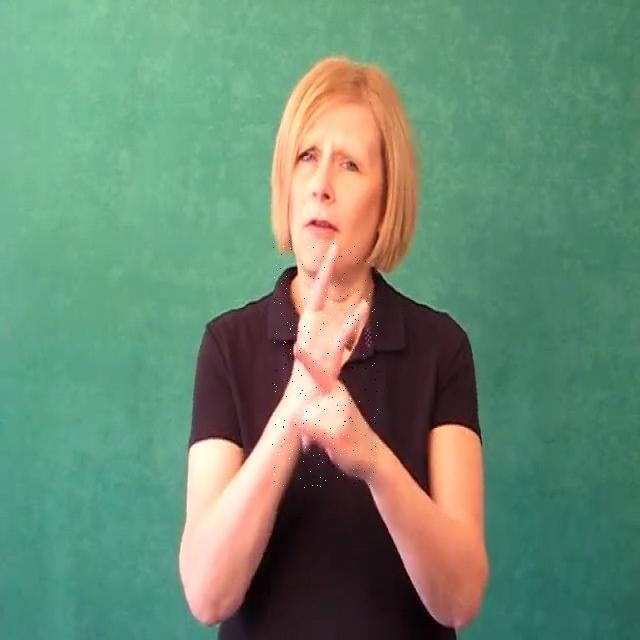alcohol: (272, 240, 378, 488)
